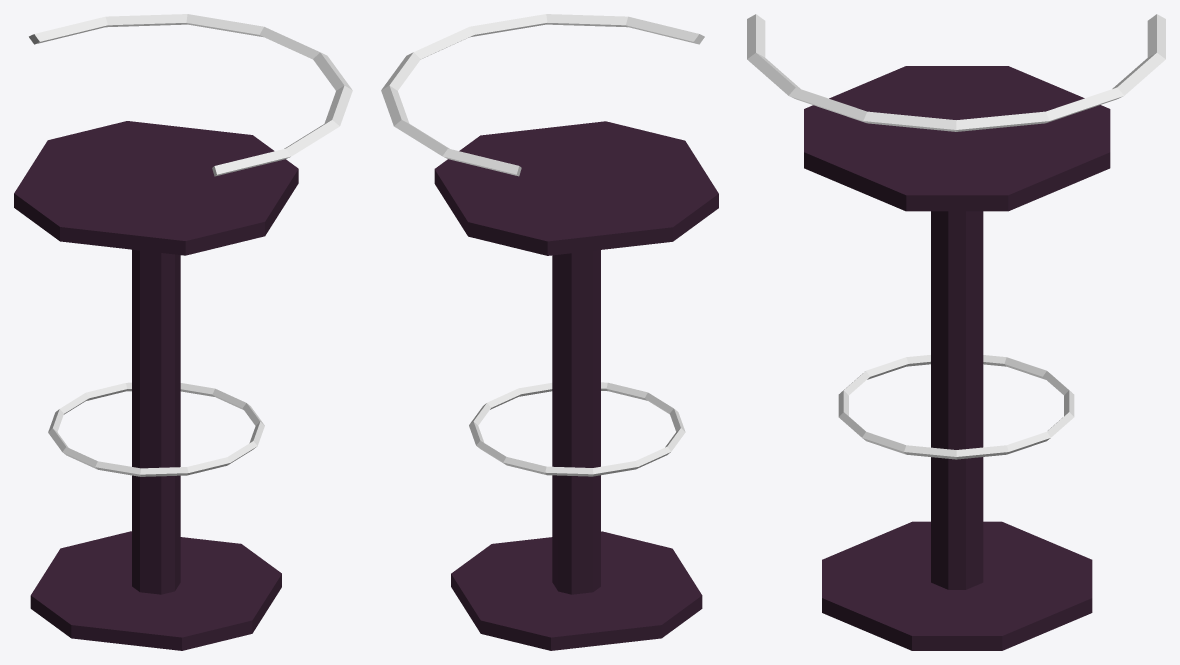
Rendered from barChair.fbx.
3 renders of one model, left to right at view 1: azimuth 30°, elevation 25°; view 2: azimuth 150°, elevation 25°; view 3: azimuth 270°, elevation 25°, orthographic. The views are drawn at different scales.
Parts seen in each view (by area): view 1: barChair.001; view 2: barChair.001; view 3: barChair.001.
Boxes of the visible parts, x1,y1,x2,y2 form: barChair.001: [14, 14, 352, 650]; barChair.001: [381, 14, 718, 650]; barChair.001: [747, 14, 1165, 650].
Size of the model in its own units: 0.1431 by 0.2386 by 0.1611.
